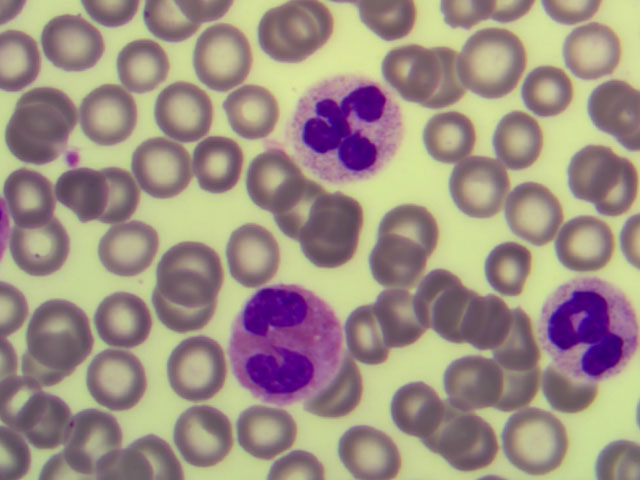Platelets: (55, 144, 86, 169)
RBC: (127, 418, 193, 480), (39, 11, 105, 72), (70, 83, 136, 144), (115, 37, 181, 98), (10, 105, 76, 166), (17, 70, 83, 131), (94, 168, 160, 229), (48, 165, 114, 226), (8, 166, 74, 227), (3, 214, 69, 275), (95, 220, 161, 281), (157, 234, 223, 295), (155, 273, 221, 334), (90, 291, 156, 352), (32, 301, 98, 362), (16, 331, 82, 392), (15, 387, 81, 448), (59, 413, 125, 474), (162, 408, 228, 469), (158, 334, 224, 395), (82, 346, 148, 407), (226, 217, 292, 278), (261, 180, 327, 241), (244, 148, 310, 209), (177, 133, 243, 194), (134, 140, 200, 201), (149, 84, 215, 145), (204, 76, 270, 137), (188, 28, 254, 89), (235, 6, 301, 67), (282, 3, 348, 64), (381, 41, 447, 102), (419, 53, 485, 114), (454, 39, 520, 100), (520, 62, 586, 123), (489, 107, 555, 168), (447, 154, 513, 215), (418, 114, 484, 175), (505, 183, 571, 244), (487, 233, 553, 294), (456, 297, 522, 358), (415, 278, 481, 339), (403, 271, 469, 332), (374, 241, 440, 302), (378, 201, 444, 262), (375, 282, 441, 343), (344, 305, 410, 366), (382, 380, 448, 441), (412, 399, 478, 460), (443, 416, 509, 477), (503, 406, 569, 467), (529, 367, 595, 428), (475, 359, 541, 420), (445, 354, 511, 415), (496, 305, 562, 366), (550, 215, 616, 276), (547, 153, 613, 214), (574, 154, 640, 215), (574, 81, 640, 142), (574, 25, 640, 86), (333, 417, 399, 478), (237, 398, 303, 459), (355, 1, 429, 40)
WBC: (227, 281, 339, 400), (287, 70, 402, 184), (542, 274, 638, 385)
